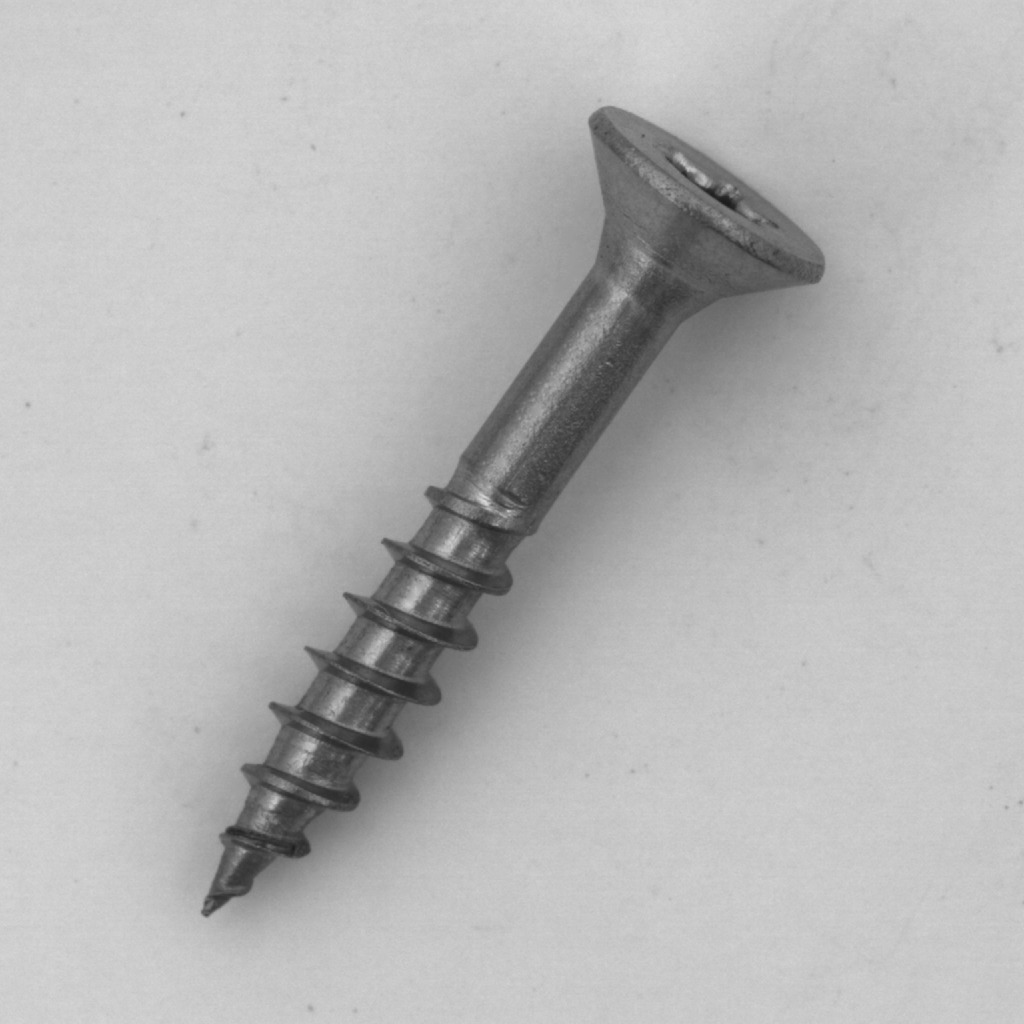good: (181, 94, 847, 934)
